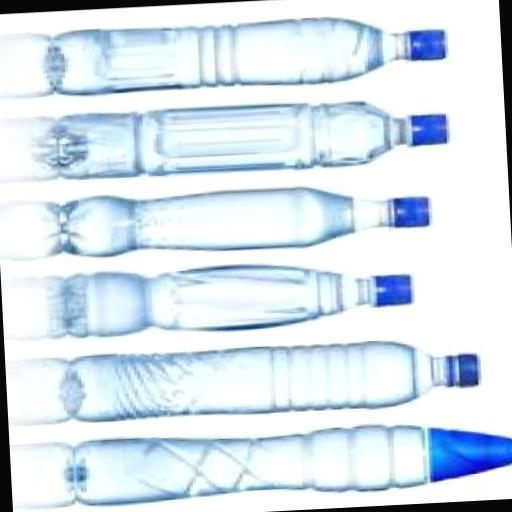plastic: (70, 412, 512, 502), (67, 330, 486, 421), (52, 92, 454, 178), (47, 8, 449, 93), (56, 174, 436, 258), (63, 251, 416, 336), (424, 419, 512, 480), (386, 192, 436, 226), (404, 110, 454, 144), (369, 270, 415, 304), (442, 350, 484, 386), (406, 26, 452, 58)
